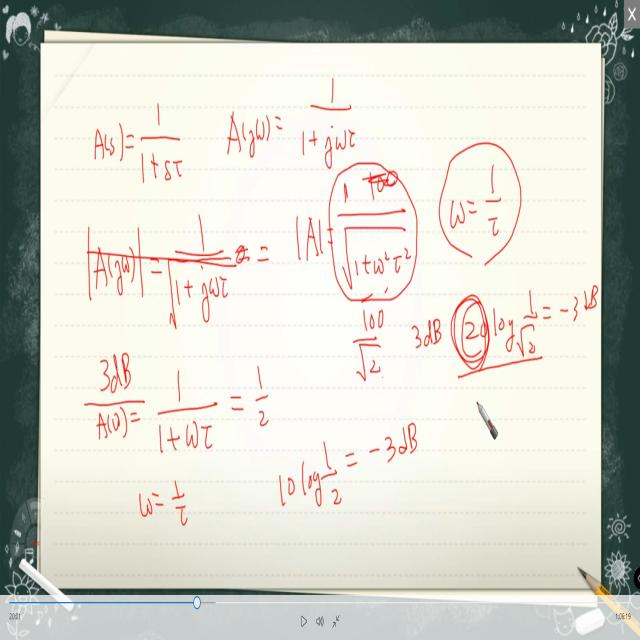panseo: (68, 62, 601, 556)
